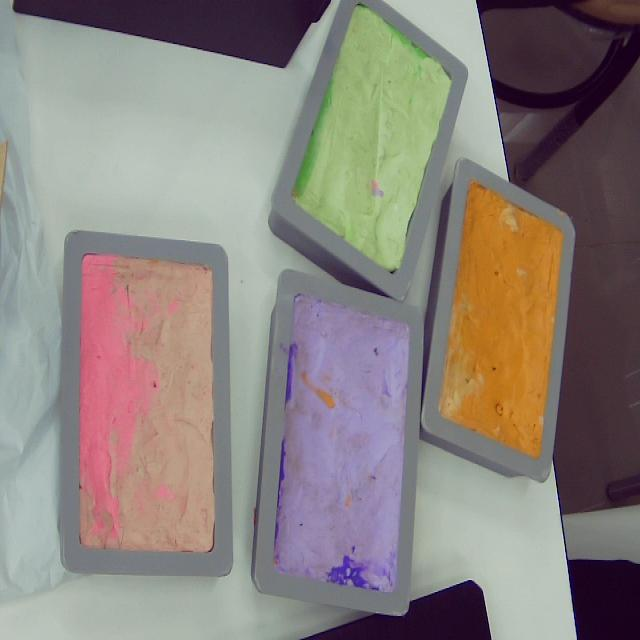block: (56, 230, 235, 578), (267, 0, 469, 306), (247, 268, 421, 616), (414, 157, 577, 489)
